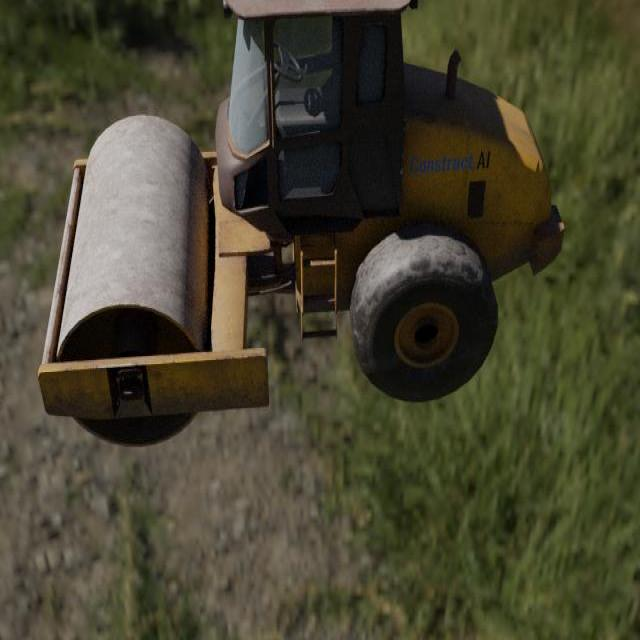Roller: (37, 0, 565, 448)
